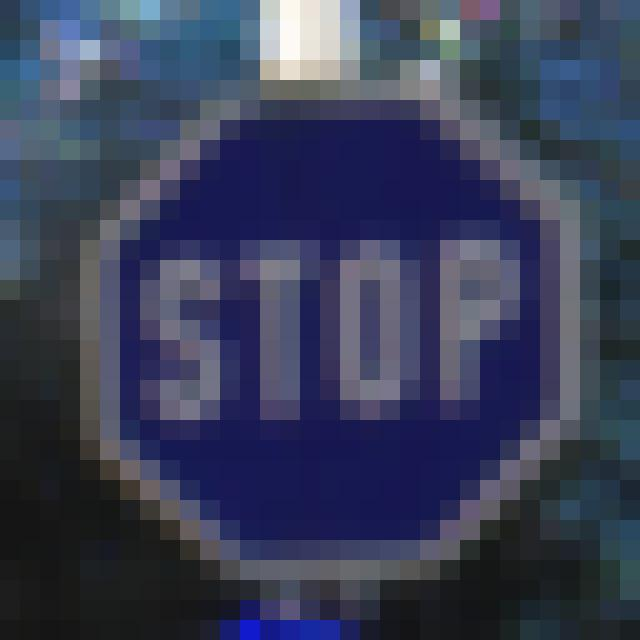STOP: (114, 104, 554, 561)
